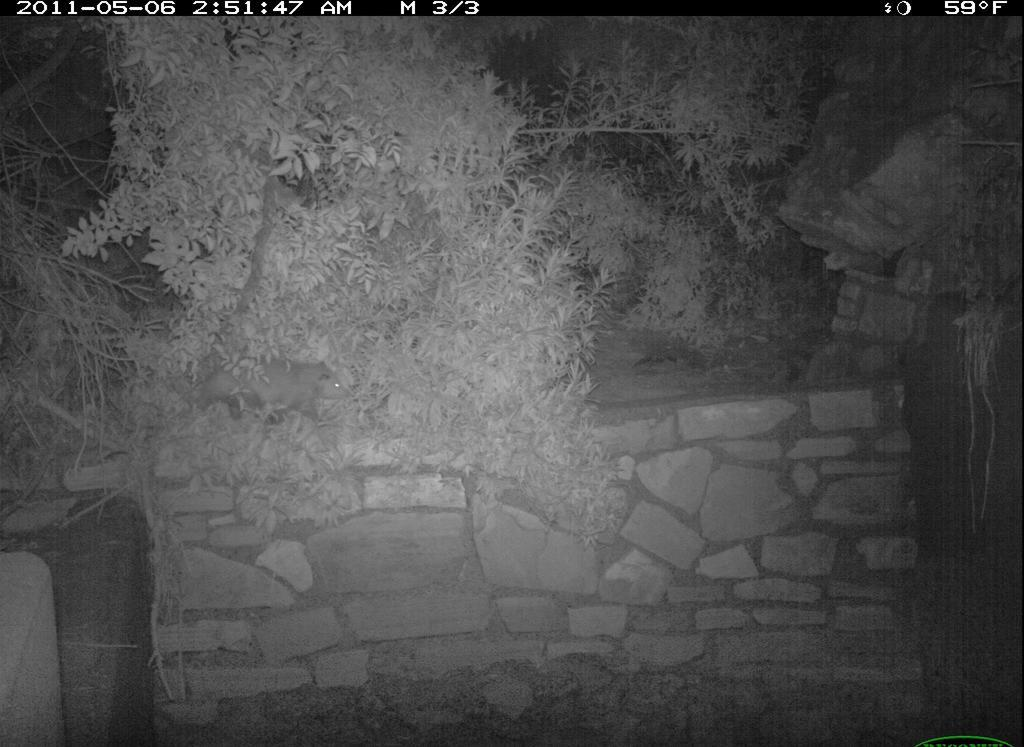opossum: (178, 353, 363, 433)
